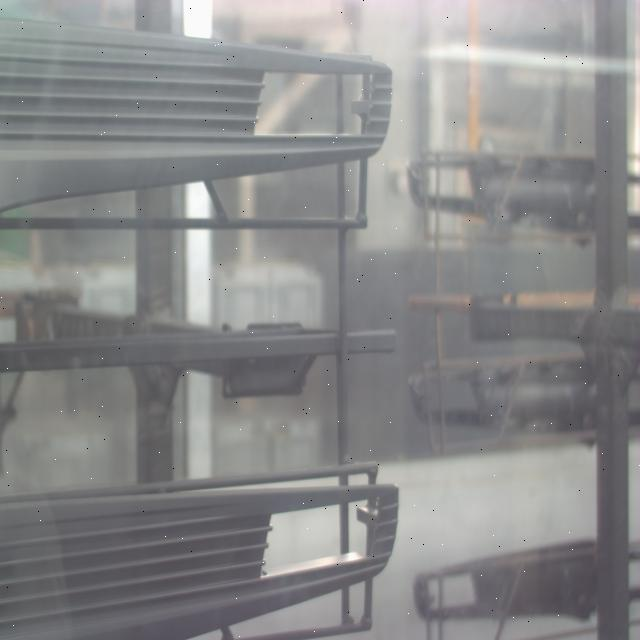Primered: (0, 18, 391, 228), (0, 472, 403, 640)
